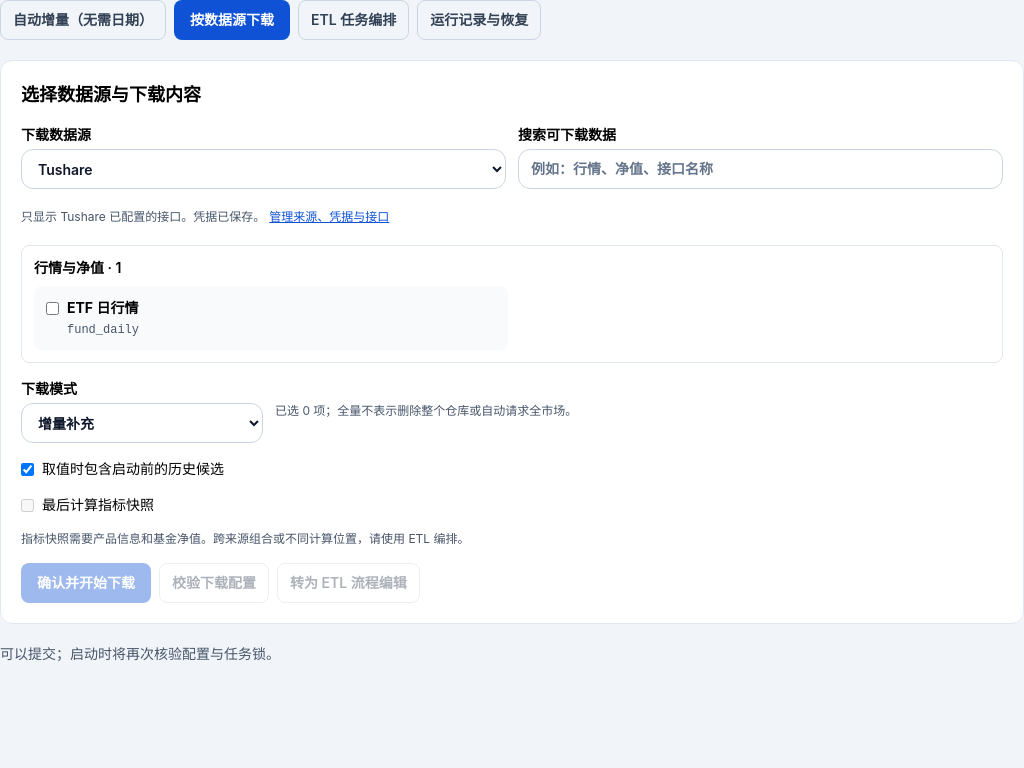
Test: 多源下载与 ETL › 自动模式先置灰，校验失败仍置灰，通过后才能运行
Expected: the heading "选择数据源与下载内容" is shown, [21, 84, 201, 105]
Click the button "ETL 任务编排": click(354, 20) [298, 0, 409, 40]
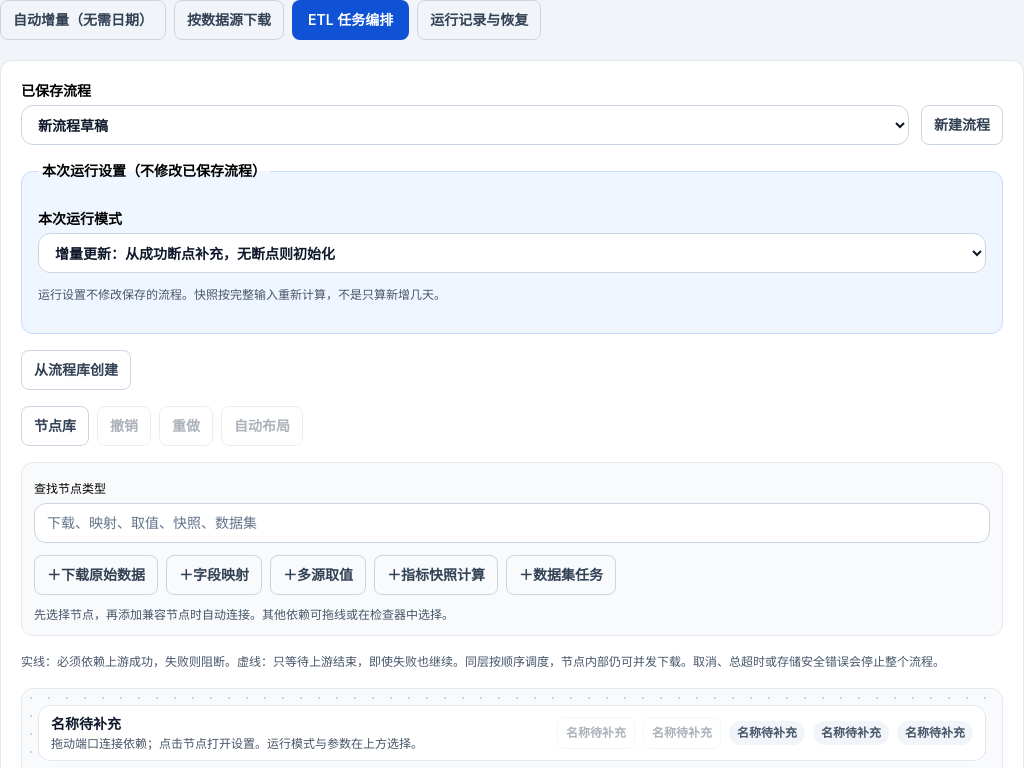
Select "数据下载与更新 · v1" in the dropdown labelled "已保存流程": (465, 125) [21, 105, 909, 145]
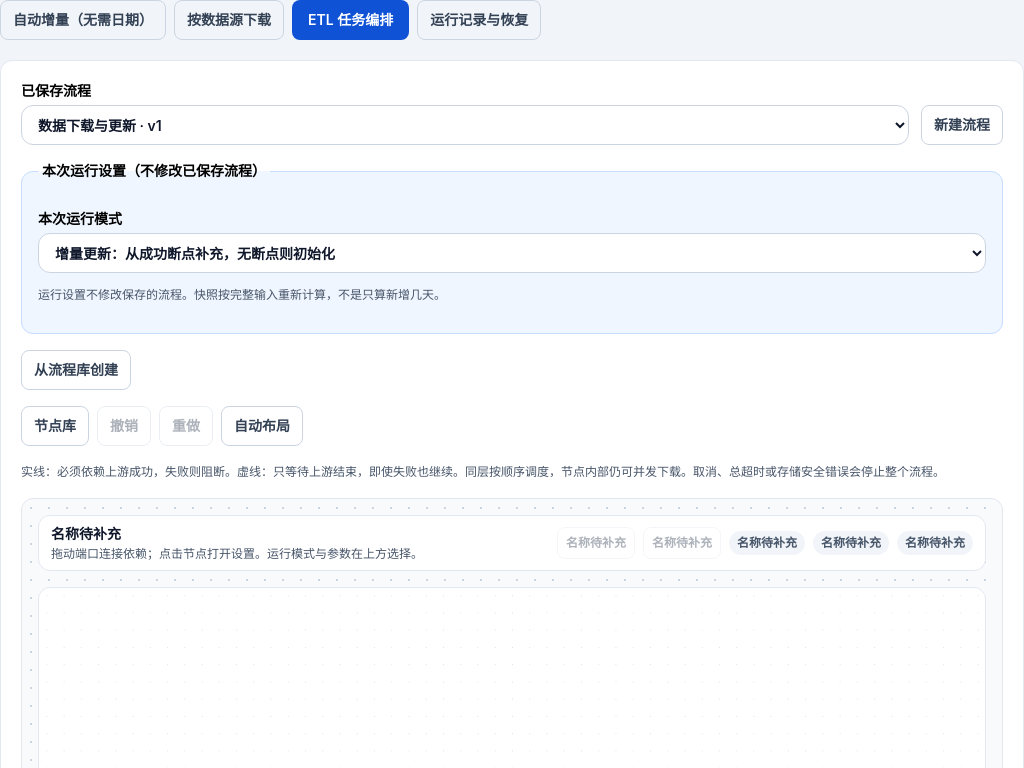
# Let the loaded graph complete its browser frame before checking workflow actions.
Select "自动增量：依据活跃快照推断日期，无需填写区间" in the dropdown labelled "本次运行模式": (512, 253) [38, 233, 986, 273]
(page scrolled)
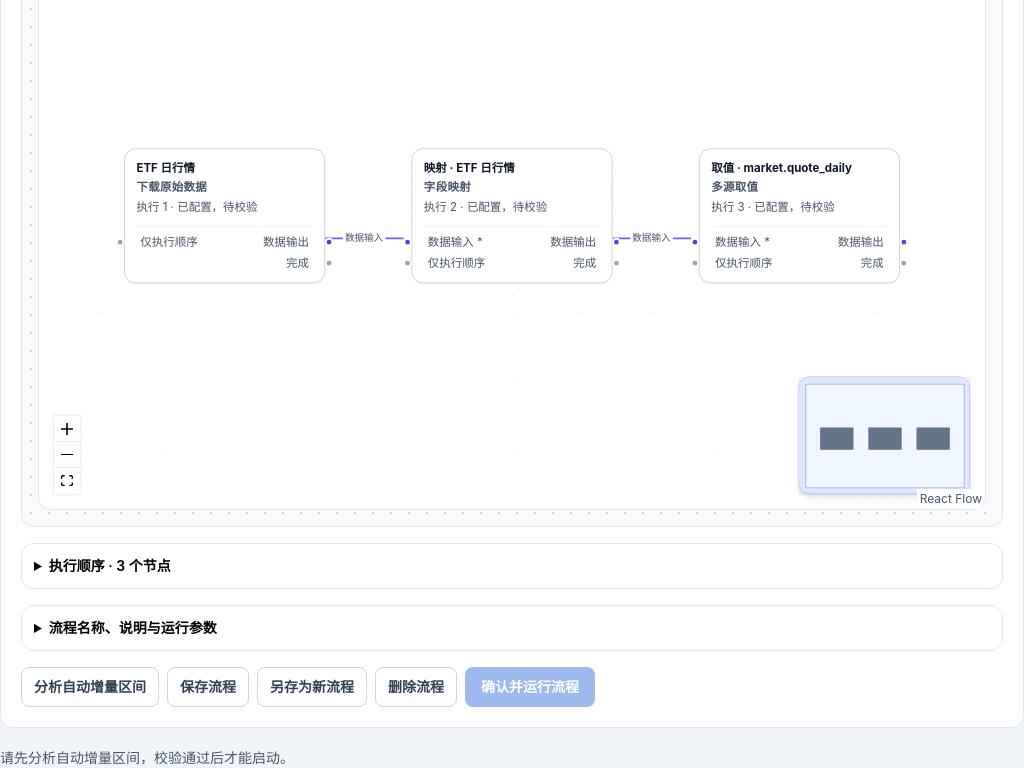
Now the button "确认并运行流程" is disabled, box [465, 667, 595, 707]
Click the button "分析自动增量区间": click(90, 687) [21, 667, 159, 707]
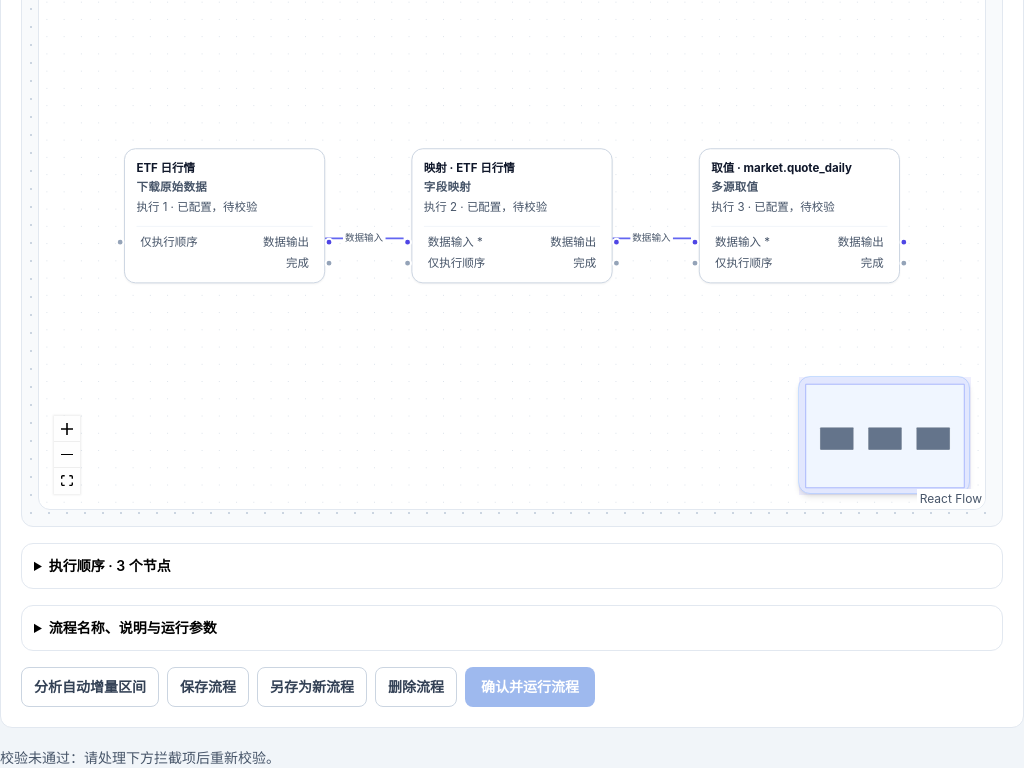
Now the button "确认并运行流程" is disabled, box [465, 667, 595, 707]
Click the button "分析自动增量区间": click(90, 687) [21, 667, 159, 707]
(page scrolled)
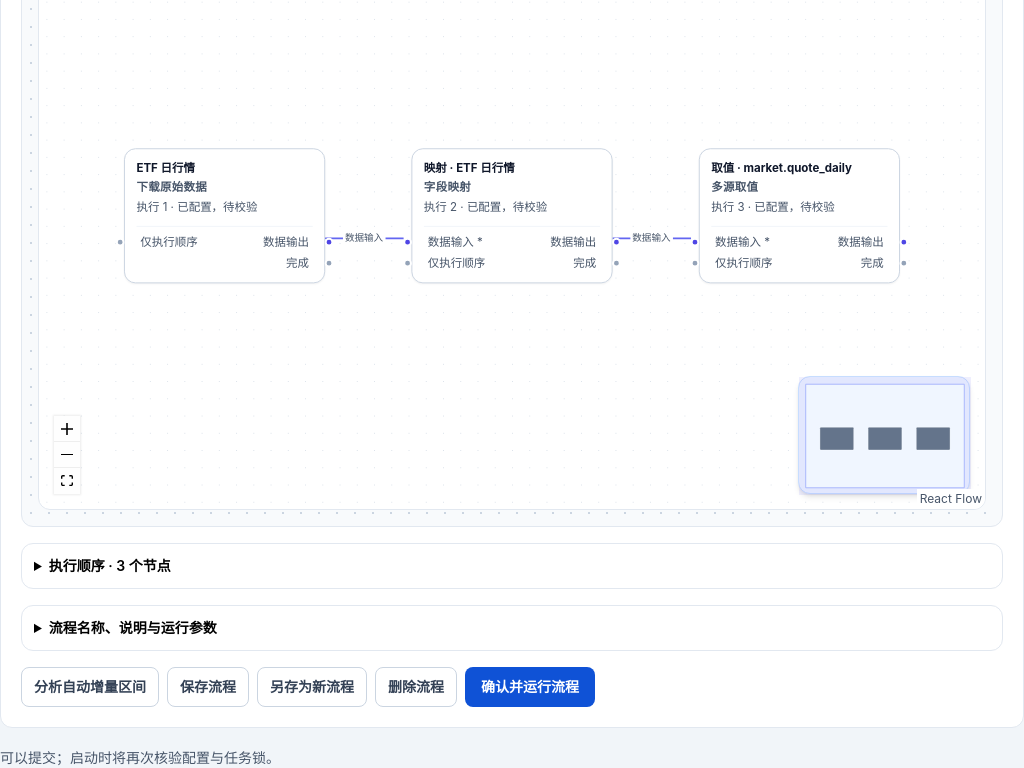
Now the button "确认并运行流程" is enabled, box [465, 667, 595, 707]
